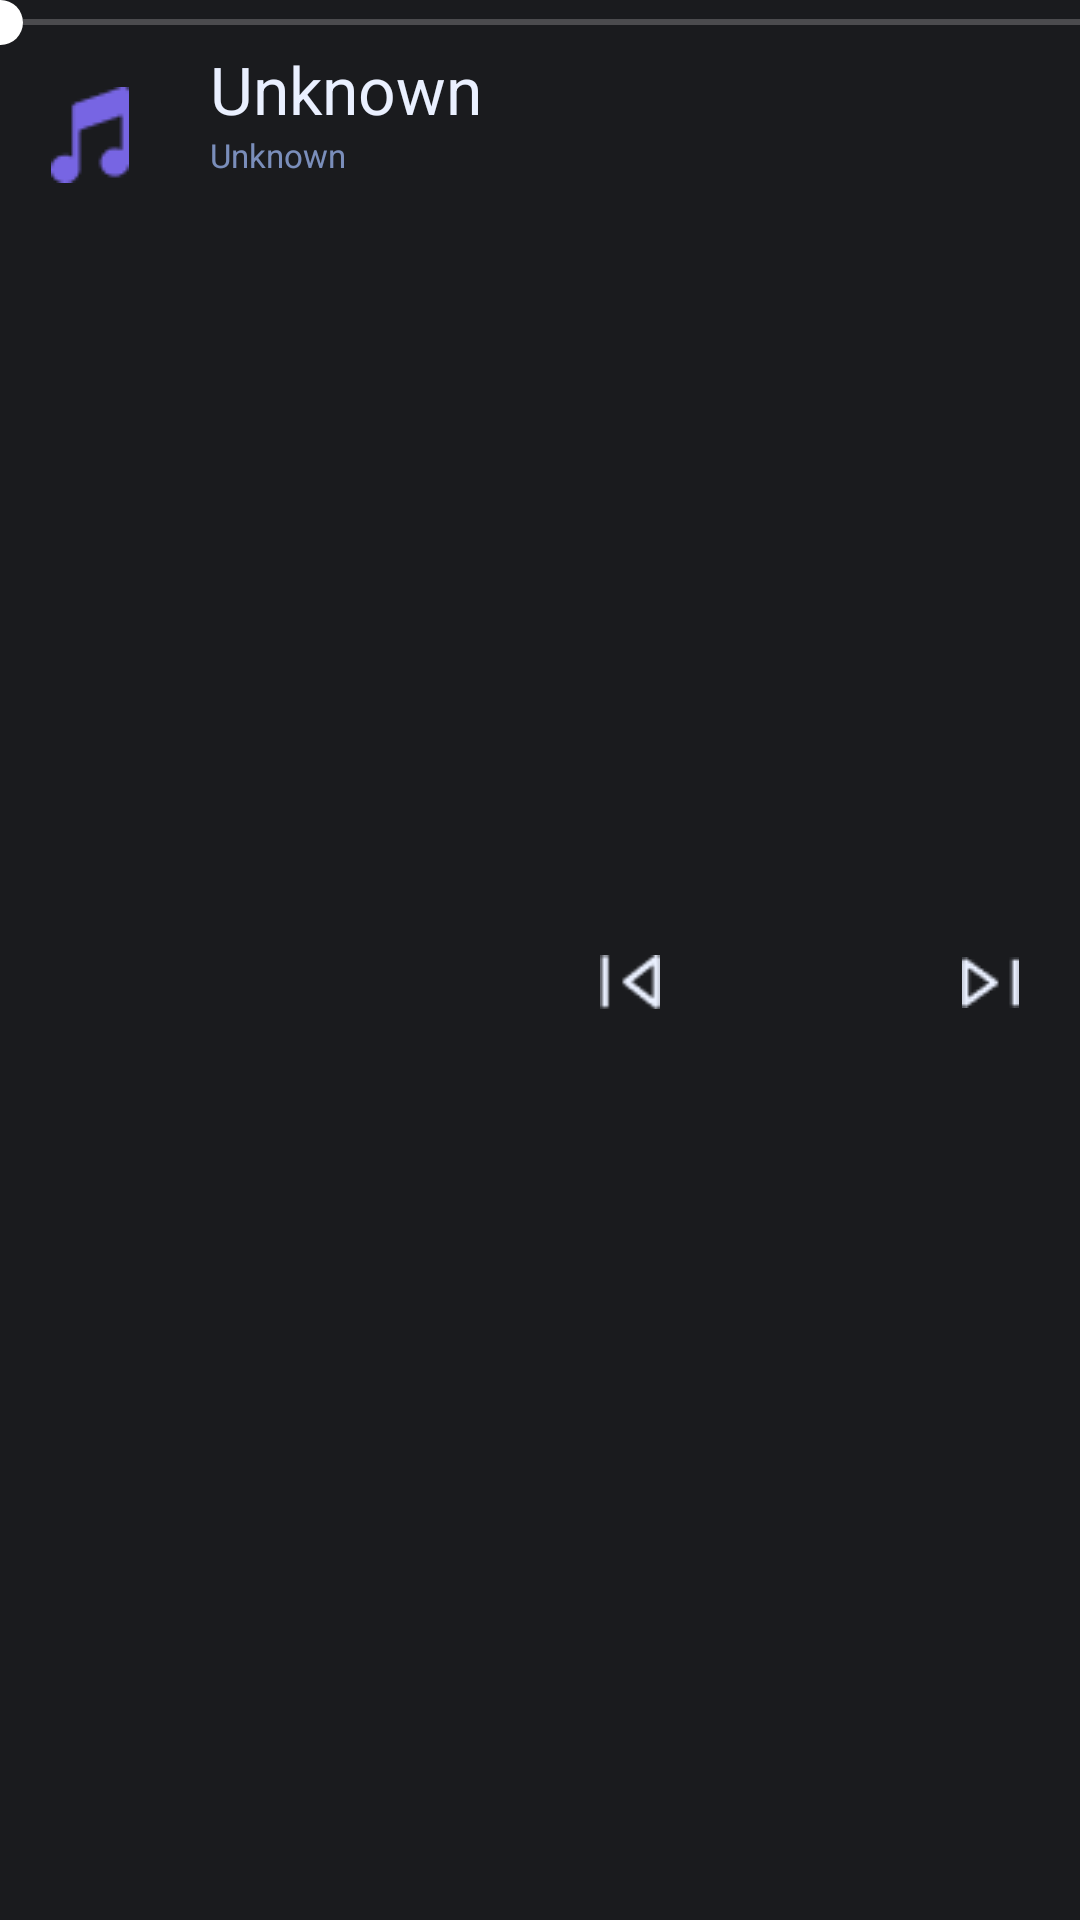

Icons on this 1080 × 1920 Android screen, each with the point to tap as (x,y):
next: (990,982)
previous: (630,982)
